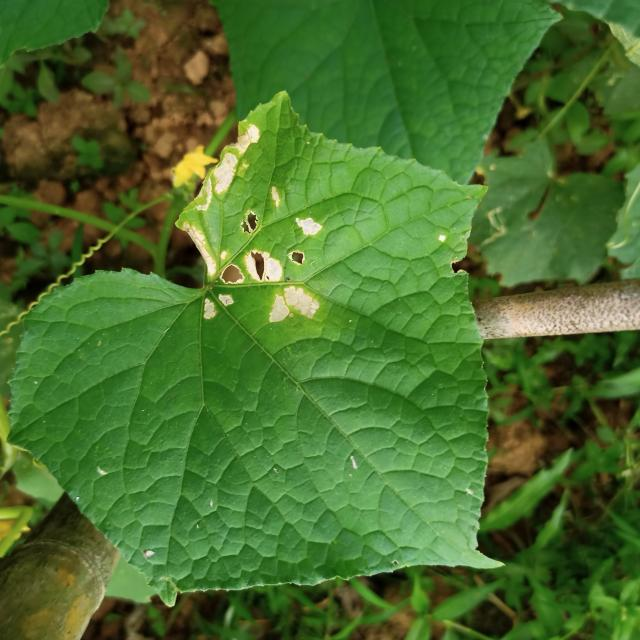disease_cucumber: (182, 122, 322, 326)
